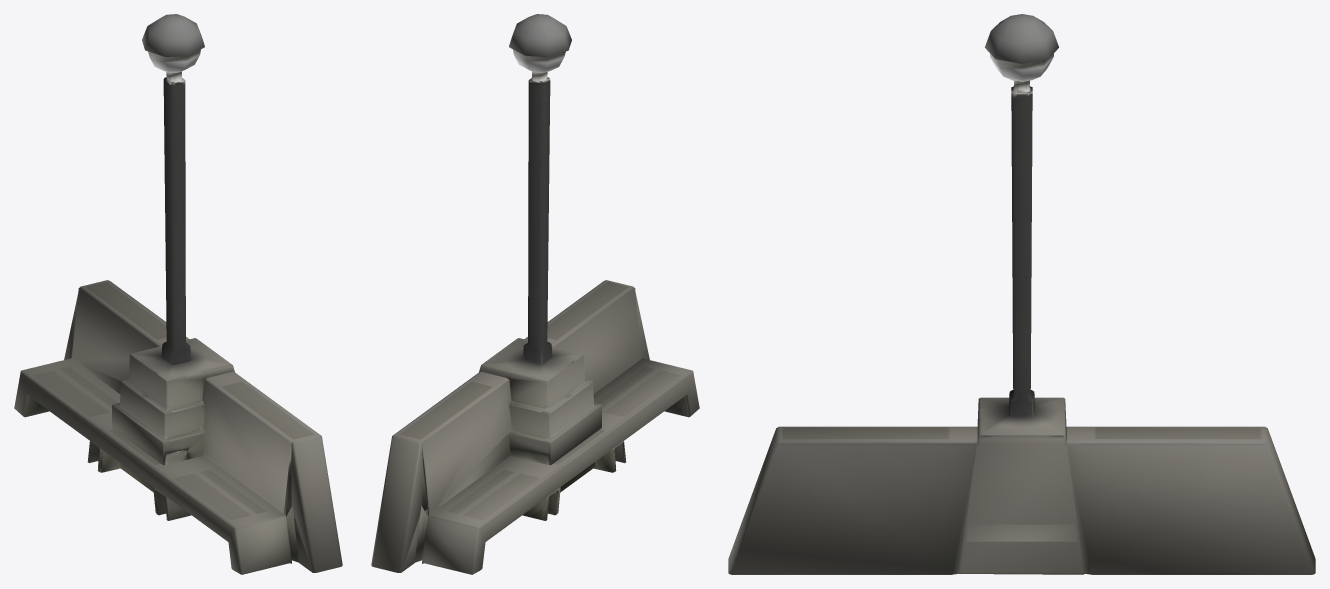
Rendered from UJA_Farola-banco.glb.
The picture shows the model from 3 angles, left to right: view 1: azimuth 30°, elevation 25°; view 2: azimuth 150°, elevation 25°; view 3: azimuth 270°, elevation 25°; orthographic projection. The views are drawn at different scales.
Parts seen in each view (by area): view 1: texture_pbr_20250901; view 2: texture_pbr_20250901; view 3: texture_pbr_20250901.
Boxes of the visible parts, x1,y1,x2,y2 form: texture_pbr_20250901: (14, 14, 342, 574); texture_pbr_20250901: (371, 14, 699, 574); texture_pbr_20250901: (728, 14, 1315, 574).
Size of the model in its own units: 0.3776 by 1.9 by 1.89.
1 material, 1 textured.
